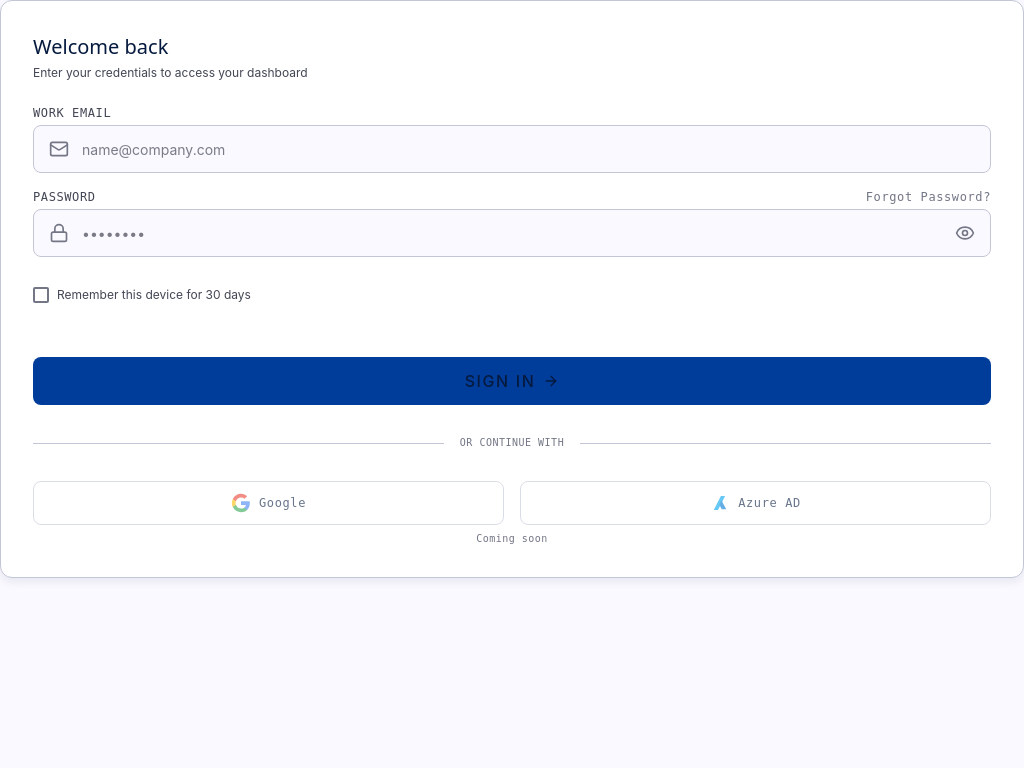
Test: LoginForm › shows validation errors for empty submit
What coordinates should you click on to do the following:
click the button "Sign in"
I would click on:
 (512, 381)
Its box is [33,357,991,405].
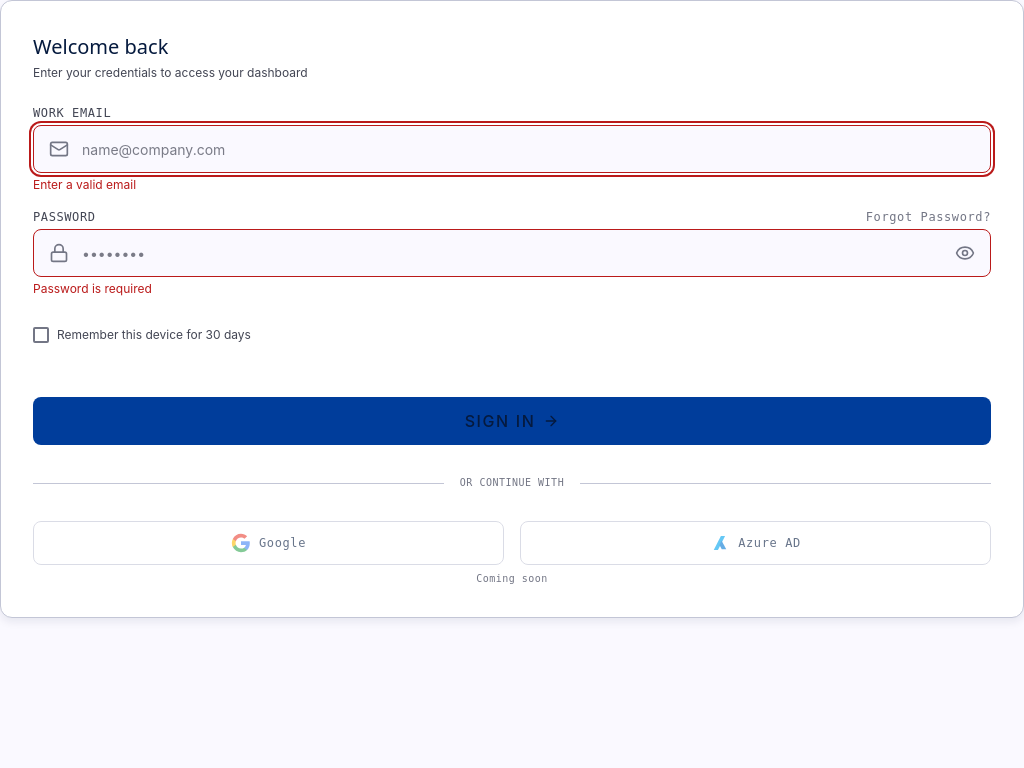
Check: the text "Enter a valid email" is shown, box [33,177,136,192]
Check: the text "Password is required" is shown, box [33,281,152,296]
